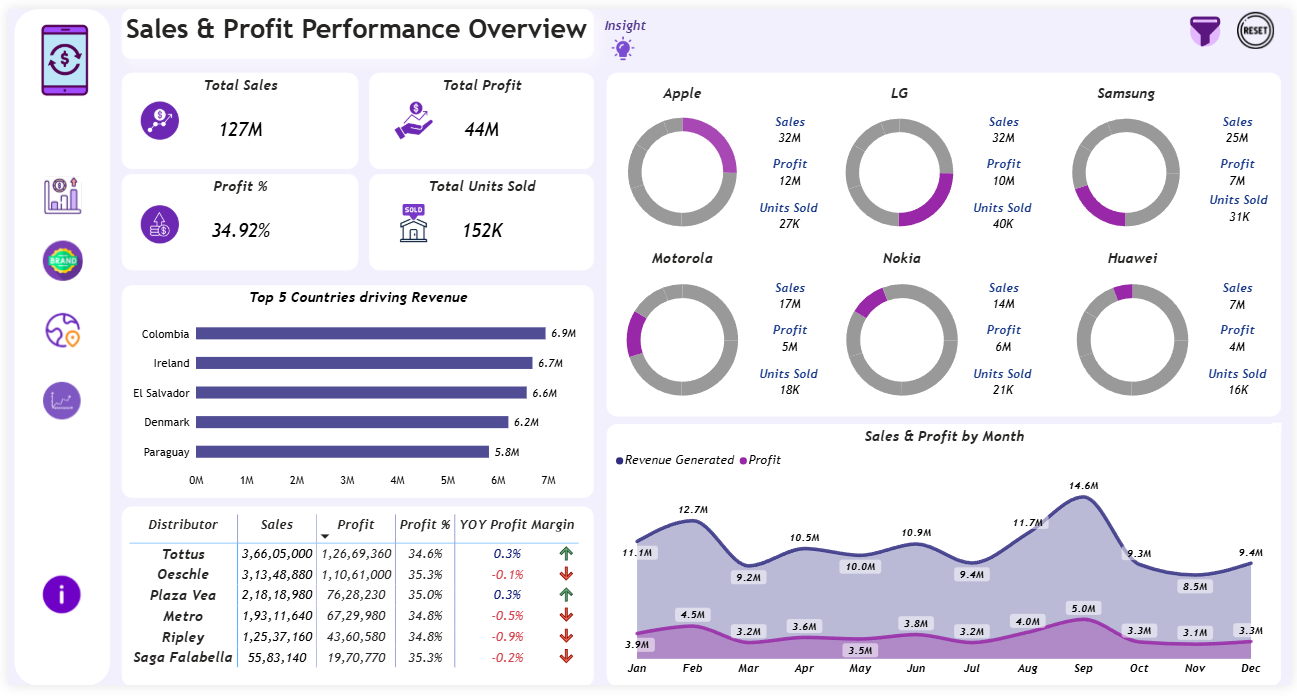

The page's visual inventory and layout, read from the dashboard file:
{"tool":"powerbi","page":{"name":"SALES & PROFIT","canvas":[1800,950],"ordinal":0},"visuals":[{"type":"image","box":[845.2,36.3,35.2,36.2],"z":0,"group":"g3"},{"type":"card","title":"Total Sales","fields":{"Values":["Sales Table.Total Sales"]},"box":[159.3,89.8,332.2,135.6],"z":0},{"type":"actionButton","box":[37.3,232.1,79.7,61.1],"z":0,"group":"g1"},{"type":"card","title":"Total Profit","fields":{"Values":["Sales Table.Profit"]},"box":[506.8,89.8,315.3,135.6],"z":1000},{"type":"actionButton","box":[37.3,322,79.7,64.5],"z":1000,"group":"g1"},{"type":"textbox","title":"Insight","box":[819.6,12.3,94.5,28.9],"z":1500,"group":"g3"},{"type":"card","title":"Profit %","fields":{"Values":["Sales Table.Profit %"]},"box":[159.3,232.2,332.2,135.6],"z":2000},{"type":"actionButton","box":[37.3,422.1,79.7,59.4],"z":2000,"group":"g1"},{"type":"actionButton","box":[1701.6,0,98.4,60.3],"z":3000},{"type":"actionButton","box":[23.2,519.3,105.4,60.8],"z":3000,"group":"g1"},{"type":"card","title":"Total Units Sold","fields":{"Values":["Sales Table.Units Sold"]},"box":[506.8,232.2,315.3,135.6],"z":4000},{"type":"actionButton","box":[23.2,785.6,105.4,71.5],"z":4000,"group":"g1"},{"type":"image","box":[1635,0,90,63.3],"z":5000,"group":"g2"},{"type":"clusteredBarChart","title":"Top 5 Countries driving Revenue","fields":{"Category":["Sales Table.Country"],"Y":["Sales Table.Revenue Generated"]},"box":[159.3,388.1,662.7,298.3],"z":5000},{"type":"pivotTable","fields":{"Rows":["Sales Table.Distributor"],"Values":["Sales Table.Revenue Generated","Sales Table.Profit","Sales Table.Profit %","Date Table.YOY Profit Margin"]},"box":[159.3,698.3,662.7,252.5],"z":6000},{"type":"slicer","fields":{"Values":["Date Table.Year"]},"box":[1772.9,581.4,13.6,13.6],"z":7000},{"type":"areaChart","title":"Sales & Profit by Month ","fields":{"Y":["Sales Table.Revenue Generated","Sales Table.Profit"],"Category":["Date Table.Month Name"]},"box":[841.1,582.1,946.4,367.9],"z":8000},{"type":"shape","box":[841.1,89.3,946.4,482.1],"z":9000},{"type":"donutChart","title":"Apple","fields":{"Category":["Sales Table.Brand"],"Y":["Sales Table.Revenue Generated"]},"box":[778,106.8,339,222],"z":10000},{"type":"donutChart","title":"Nokia","fields":{"Category":["Sales Table.Brand"],"Y":["Sales Table.Revenue Generated"]},"box":[1096.6,339,316.9,228.8],"z":11000},{"type":"donutChart","title":"Huawei","fields":{"Category":["Sales Table.Brand"],"Y":["Sales Table.Revenue Generated"]},"box":[1413.6,339,328.8,228.8],"z":12000},{"type":"donutChart","title":"Motorola","fields":{"Category":["Sales Table.Brand"],"Y":["Sales Table.Revenue Generated"]},"box":[778,339,339,228.8],"z":13000},{"type":"donutChart","title":"LG","fields":{"Category":["Sales Table.Brand"],"Y":["Sales Table.Revenue Generated"]},"box":[1089.8,106.8,323.7,222],"z":14000},{"type":"donutChart","title":"Samsung","fields":{"Category":["Sales Table.Brand"],"Y":["Sales Table.Revenue Generated"]},"box":[1396.6,106.8,345.8,222],"z":15000},{"type":"card","title":"Sales","fields":{"Values":["Sales Table.Total Sales"]},"box":[1361,376.3,71.2,59.3],"z":16000},{"type":"card","title":"Sales","fields":{"Values":["Sales Table.Total Sales"]},"box":[1361,142.4,71.2,59.3],"z":17000},{"type":"card","title":"Sales","fields":{"Values":["Sales Table.Total Sales"]},"box":[1061,376.3,71.2,59.3],"z":18000},{"type":"card","title":"Sales","fields":{"Values":["Sales Table.Total Sales"]},"box":[1061,142.4,71.2,59.3],"z":19000},{"type":"card","title":"Sales","fields":{"Values":["Sales Table.Total Sales"]},"box":[1689.8,142.4,71.2,59.3],"z":20000},{"type":"card","title":"Sales","fields":{"Values":["Sales Table.Total Sales"]},"box":[1689.8,376.3,71.2,61],"z":21000},{"type":"card","title":"Profit","fields":{"Values":["Sales Table.Profit"]},"box":[1061,201.7,71.2,61],"z":22000},{"type":"card","title":"Profit","fields":{"Values":["Sales Table.Profit"]},"box":[1689.8,435.6,71.2,61],"z":23000},{"type":"card","title":"Profit","fields":{"Values":["Sales Table.Profit"]},"box":[1361,435.6,71.2,61],"z":24000},{"type":"card","title":"Profit","fields":{"Values":["Sales Table.Profit"]},"box":[1061,435.6,71.2,61],"z":25000},{"type":"card","title":"Profit","fields":{"Values":["Sales Table.Profit"]},"box":[1361,201.7,71.2,61],"z":26000},{"type":"card","title":"Profit","fields":{"Values":["Sales Table.Profit"]},"box":[1689.8,201.7,71.2,61],"z":27000},{"type":"card","title":"Units Sold","fields":{"Values":["Sales Table.Units Sold"]},"box":[1044.1,262.7,105.1,59.3],"z":28000},{"type":"card","title":"Units Sold","fields":{"Values":["Sales Table.Units Sold"]},"box":[1672.9,496.6,105.1,59.3],"z":29000},{"type":"card","title":"Units Sold","fields":{"Values":["Sales Table.Units Sold"]},"box":[1344.1,496.6,105.1,59.3],"z":30000},{"type":"card","title":"Units Sold","fields":{"Values":["Sales Table.Units Sold"]},"box":[1044.1,496.6,105.1,59.3],"z":31000},{"type":"card","title":"Units Sold","fields":{"Values":["Sales Table.Units Sold"]},"box":[1344.1,262.7,105.1,59.3],"z":32000},{"type":"card","title":"Units Sold","fields":{"Values":["Sales Table.Units Sold"]},"box":[1674.6,252.5,105.1,59.3],"z":33000},{"type":"shape","title":"Sales & Profit Performance Overview","box":[159.3,0,662.7,69.5],"z":34000},{"type":"shape","box":[8.3,0,135,950],"z":35000},{"type":"group","id":"g1","title":"Group 1","box":[23.2,232.1,105.4,625],"z":36000},{"type":"image","box":[28.6,21.4,103.6,101.8],"z":37000},{"type":"image","box":[180.4,130.4,64.3,53.6],"z":38000},{"type":"image","box":[537.5,273.2,64.3,53.6],"z":39000},{"type":"image","box":[180.4,275,64.3,53.6],"z":40000},{"type":"image","box":[537.5,130.4,64.3,53.6],"z":41000},{"type":"group","id":"g2","title":"SLICERS P1","box":[1198.3,0,526.7,245],"z":44000},{"type":"group","id":"g3","title":"insight popup1","box":[631.6,12.3,457.9,393],"z":45000}]}

Visuals, with their boxes in screenshot pixels (x1, y1, x2, y2), scaled from the page's 1800x950 canvas onto the 1297x696 screenshot:
image: Rect(609, 27, 634, 53)
"Total Sales" card: Rect(115, 66, 354, 165)
actionButton: Rect(27, 170, 84, 215)
"Total Profit" card: Rect(365, 66, 592, 165)
actionButton: Rect(27, 236, 84, 283)
"Insight" textbox: Rect(591, 9, 659, 30)
"Profit %" card: Rect(115, 170, 354, 269)
actionButton: Rect(27, 309, 84, 353)
actionButton: Rect(1226, 0, 1296, 44)
actionButton: Rect(17, 380, 93, 425)
"Total Units Sold" card: Rect(365, 170, 592, 269)
actionButton: Rect(17, 576, 93, 628)
image: Rect(1178, 0, 1243, 46)
"Top 5 Countries driving Revenue" clusteredBarChart: Rect(115, 284, 592, 503)
pivotTable - Sales Table.Distributor x Sales Table.Revenue Generated: Rect(115, 512, 592, 695)
slicer - Date Table.Year: Rect(1277, 426, 1287, 436)
"Sales & Profit by Month " areaChart: Rect(606, 426, 1288, 695)
shape: Rect(606, 65, 1288, 419)
"Apple" donutChart: Rect(561, 78, 805, 241)
"Nokia" donutChart: Rect(790, 248, 1019, 416)
"Huawei" donutChart: Rect(1019, 248, 1255, 416)
"Motorola" donutChart: Rect(561, 248, 805, 416)
"LG" donutChart: Rect(785, 78, 1019, 241)
"Samsung" donutChart: Rect(1006, 78, 1255, 241)
"Sales" card: Rect(981, 276, 1032, 319)
"Sales" card: Rect(981, 104, 1032, 148)
"Sales" card: Rect(765, 276, 816, 319)
"Sales" card: Rect(765, 104, 816, 148)
"Sales" card: Rect(1218, 104, 1269, 148)
"Sales" card: Rect(1218, 276, 1269, 320)
"Profit" card: Rect(765, 148, 816, 192)
"Profit" card: Rect(1218, 319, 1269, 364)
"Profit" card: Rect(981, 319, 1032, 364)
"Profit" card: Rect(765, 319, 816, 364)
"Profit" card: Rect(981, 148, 1032, 192)
"Profit" card: Rect(1218, 148, 1269, 192)
"Units Sold" card: Rect(752, 192, 828, 236)
"Units Sold" card: Rect(1205, 364, 1281, 407)
"Units Sold" card: Rect(968, 364, 1044, 407)
"Units Sold" card: Rect(752, 364, 828, 407)
"Units Sold" card: Rect(968, 192, 1044, 236)
"Units Sold" card: Rect(1207, 185, 1282, 228)
"Sales & Profit Performance Overview" shape: Rect(115, 0, 592, 51)
shape: Rect(6, 0, 103, 695)
"Group 1" group: Rect(17, 170, 93, 628)
image: Rect(21, 16, 95, 90)
image: Rect(130, 96, 176, 135)
image: Rect(387, 200, 434, 239)
image: Rect(130, 201, 176, 241)
image: Rect(387, 96, 434, 135)
"SLICERS P1" group: Rect(863, 0, 1243, 179)
"insight popup1" group: Rect(455, 9, 785, 297)
